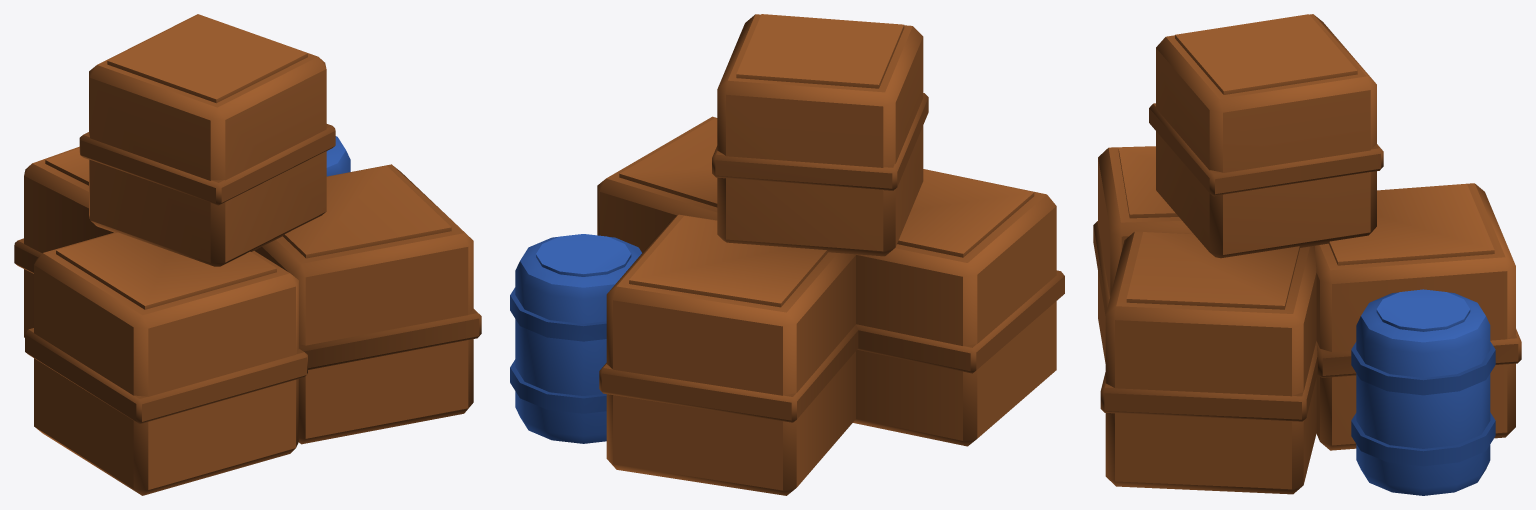
File: sv_crates.glb
3 renders of one model, left to right at view 1: azimuth 30°, elevation 25°; view 2: azimuth 150°, elevation 25°; view 3: azimuth 270°, elevation 25°, orthographic.
Parts seen in each view (by area): view 1: body; view 2: body; view 3: body.
Part boxes in pixels (box(x1,y1,x2,y2)): body: box(14, 14, 481, 495); body: box(510, 14, 1064, 495); body: box(1093, 14, 1521, 495).
Bounding box in the file's own units: 2.12 × 1.82 × 2.04.
